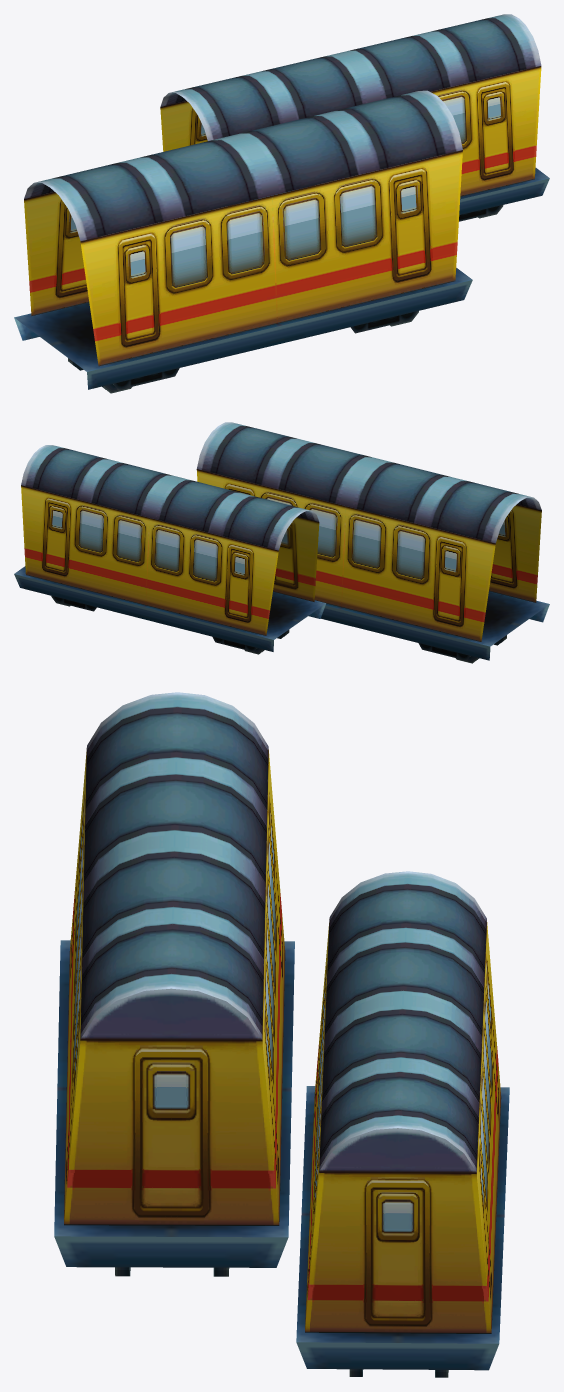
The model's file is obstacle4.fbx.
The picture shows the model from 3 angles, top to bottom: view 1: azimuth 30°, elevation 25°; view 2: azimuth 150°, elevation 25°; view 3: azimuth 270°, elevation 25°; orthographic projection. The views are drawn at different scales.
Parts seen in each view (by area): view 1: bp_MovingTrain_Child_Child_Child_C_5; view 2: bp_MovingTrain_Child_Child_Child_C_5; view 3: bp_MovingTrain_Child_Child_Child_C_5.
Boxes of the visible parts, x1,y1,x2,y2 form: bp_MovingTrain_Child_Child_Child_C_5: [14, 14, 549, 393]; bp_MovingTrain_Child_Child_Child_C_5: [14, 422, 549, 663]; bp_MovingTrain_Child_Child_Child_C_5: [54, 692, 509, 1377].
Bounding box in the file's own units: 455 × 354 × 984.
Materials: 1 (1 with a texture image).
